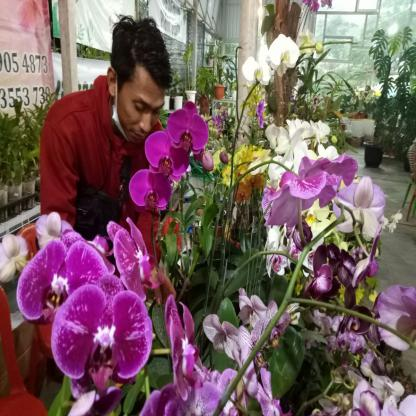ANGGREK: (165, 42, 403, 373), (13, 223, 180, 382)
